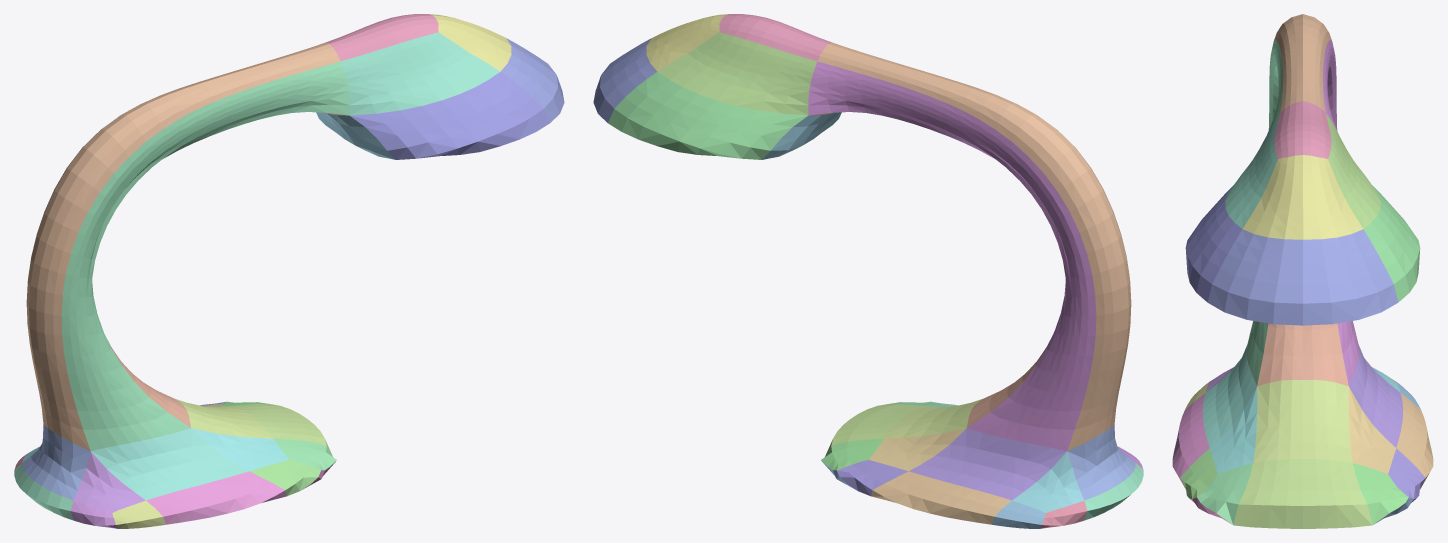
File: lamp_patch_color.obj
3 views of the same model, side by side, from view 1: azimuth 30°, elevation 25°; view 2: azimuth 150°, elevation 25°; view 3: azimuth 270°, elevation 25° (orthographic). The views are drawn at different scales.
Bounding box in the file's own units: 5.64 × 4.09 × 2.15.
